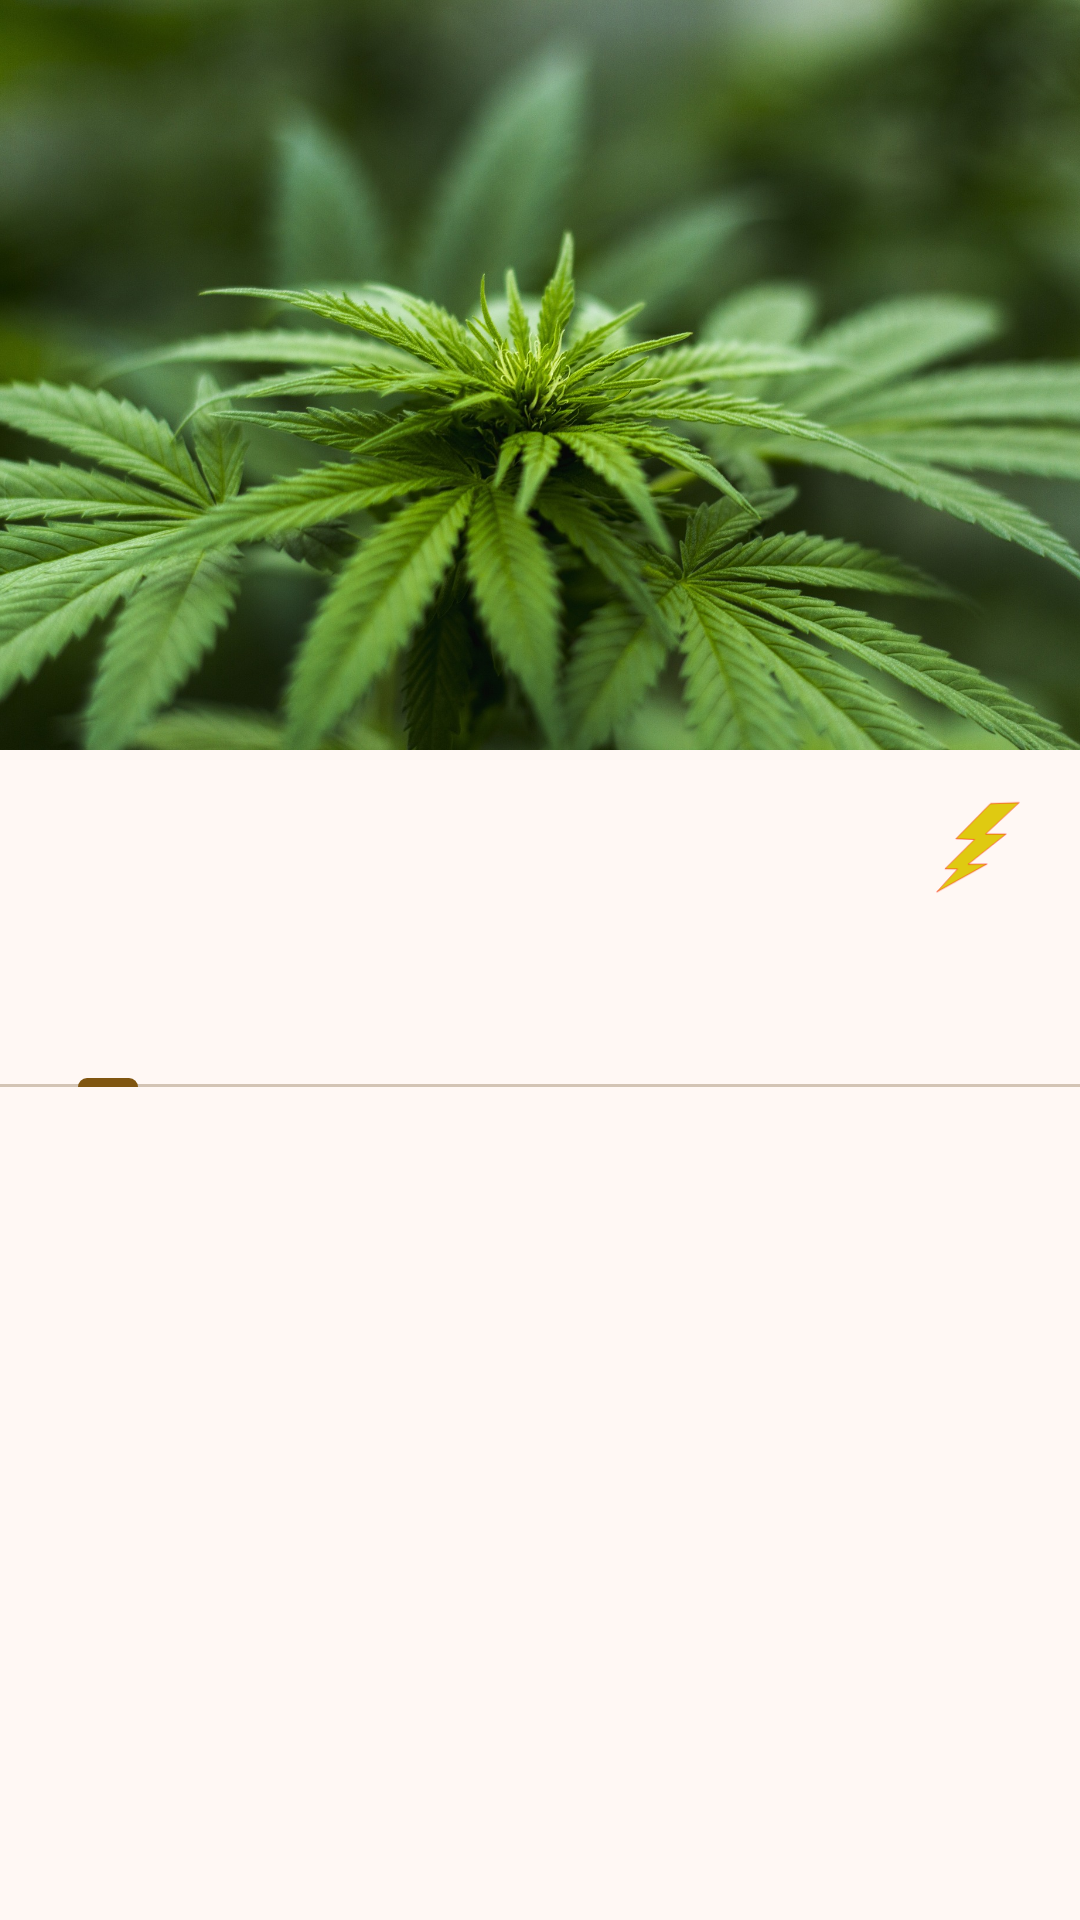

Named icons in this screenshot (1080×1920) and their centers, point (x, y):
bolt: point (978, 847)
